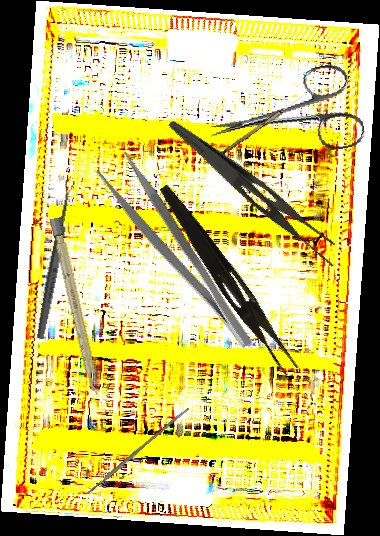Dressing Forceps: (94, 149, 257, 362), (149, 182, 306, 377), (153, 118, 351, 270)
Iris Scissors: (201, 60, 368, 175)
Scalpel Handle: (49, 217, 102, 396), (85, 406, 191, 495)
Surgical Spoon: (206, 89, 310, 167), (34, 179, 77, 340)
